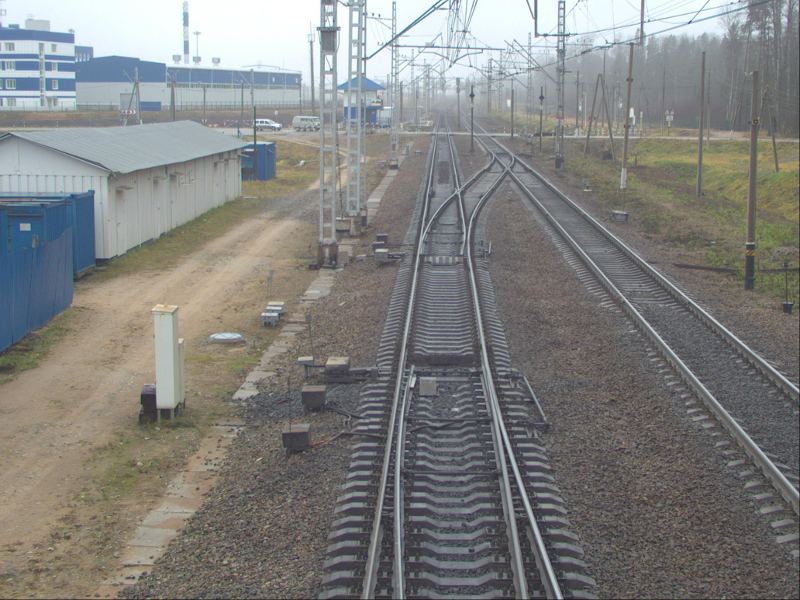right: (418, 164, 479, 264)
